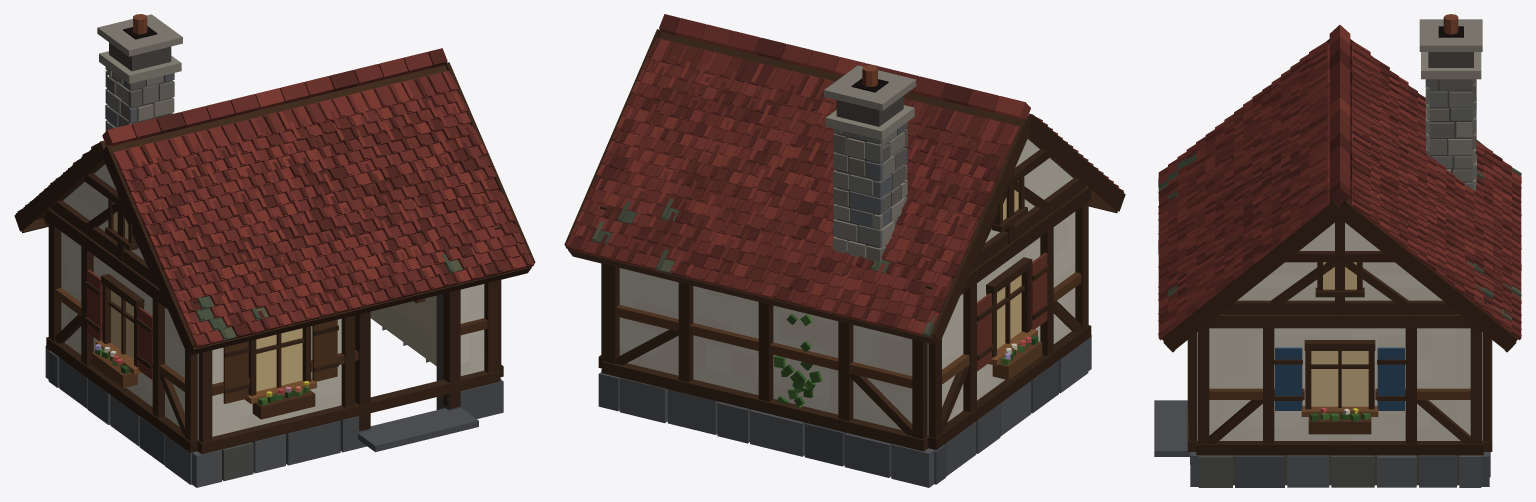
The model's file is cottage-0.glb.
3 views of the same model, side by side, from view 1: azimuth 30°, elevation 25°; view 2: azimuth 150°, elevation 25°; view 3: azimuth 270°, elevation 25° (orthographic). The views are drawn at different scales.
Parts seen in each view (by area): view 1: cottage-0_shell, cottage-0_glass; view 2: cottage-0_shell, cottage-0_glass; view 3: cottage-0_shell, cottage-0_glass.
Part boxes in pixels (x1,y1,x2,y2): cottage-0_shell: (14,14,535,487); cottage-0_glass: (111,203,302,391); cottage-0_shell: (564,14,1125,487); cottage-0_glass: (997,181,1021,348); cottage-0_shell: (1154,14,1521,487); cottage-0_glass: (1311,262,1368,406).
Bounding box in the file's own units: 6.94 × 6.92 × 6.44.
